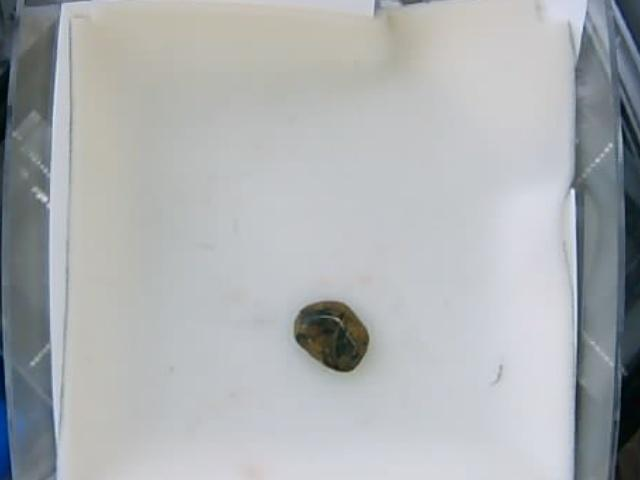Pebble: (289, 303, 369, 373)
